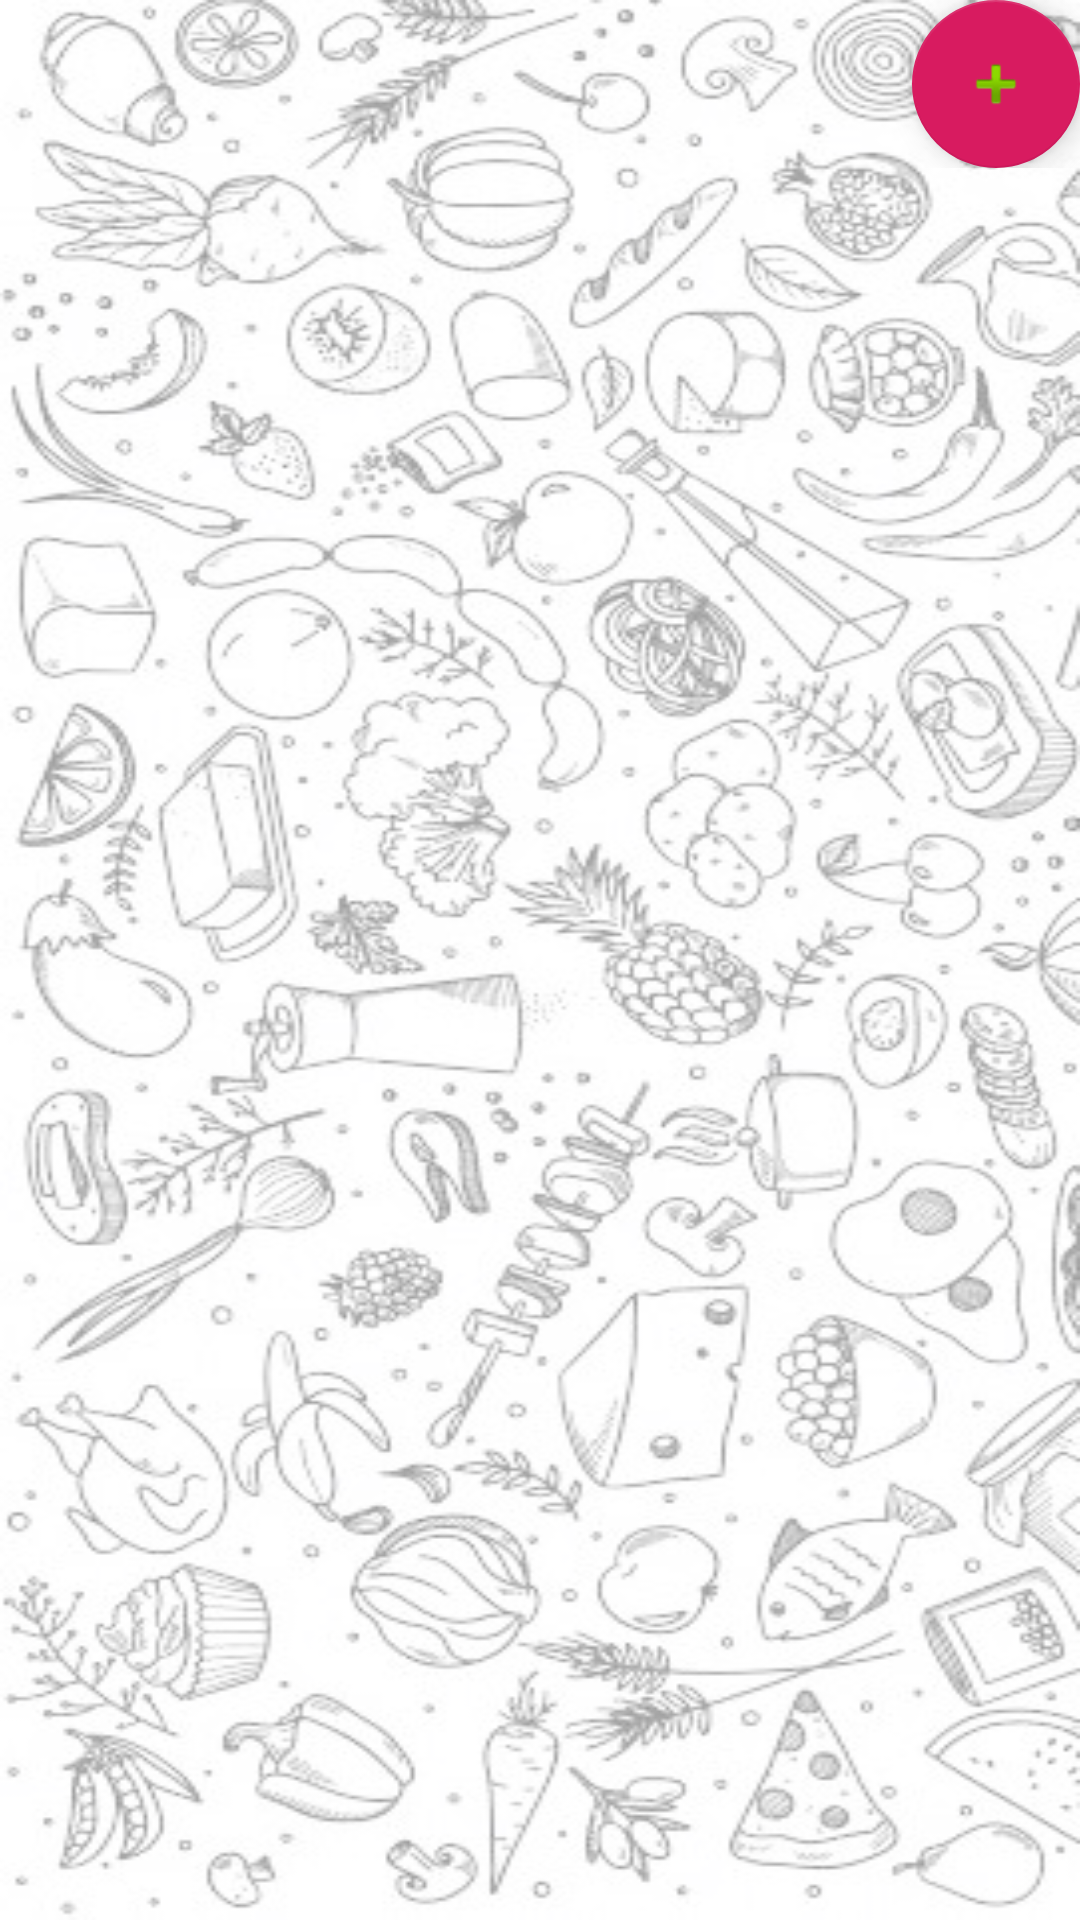

Icon bounding boxes for this 1080px×1920px phone screenshot, format {"left": x1, "top": y1, "right": x2, "bottom": y2}:
add: {"left": 912, "top": 0, "right": 1080, "bottom": 168}
